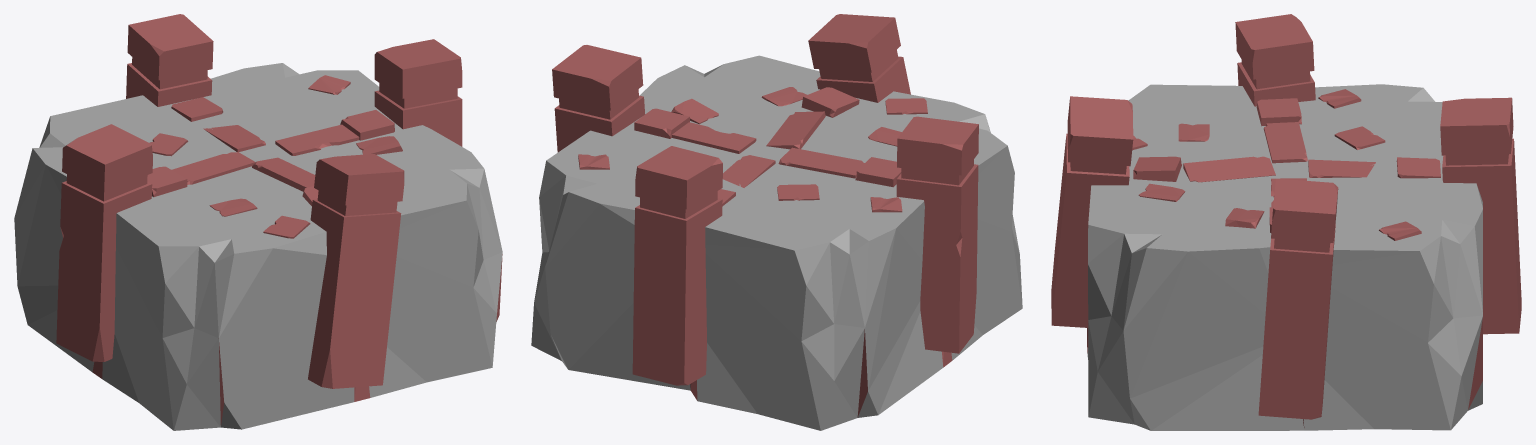
The model's file is SM_plateform_C.fbx.
The picture shows the model from 3 angles, left to right: view 1: azimuth 30°, elevation 25°; view 2: azimuth 150°, elevation 25°; view 3: azimuth 270°, elevation 25°; orthographic projection. The views are drawn at different scales.
Parts seen in each view (by area): view 1: SM_Plateform_C; view 2: SM_Plateform_C; view 3: SM_Plateform_C.
Part boxes in pixels (x1,y1,x2,y2): SM_Plateform_C: (14, 14, 502, 430); SM_Plateform_C: (531, 14, 1022, 430); SM_Plateform_C: (1051, 14, 1521, 430).
Size of what is drawn, in the model's own units: 410 by 236 by 413.
